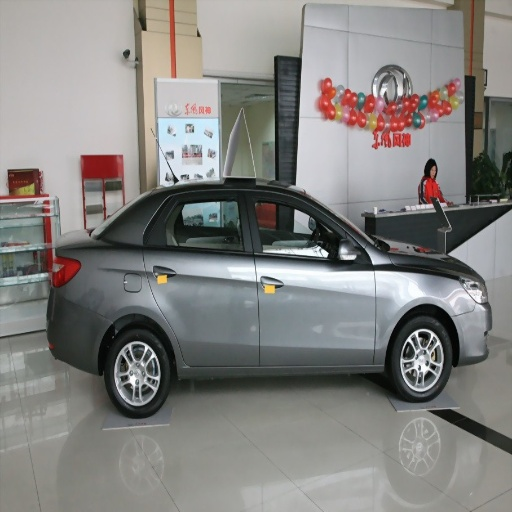back_right_door: (145, 191, 258, 364)
front_right_door: (249, 192, 375, 364)
